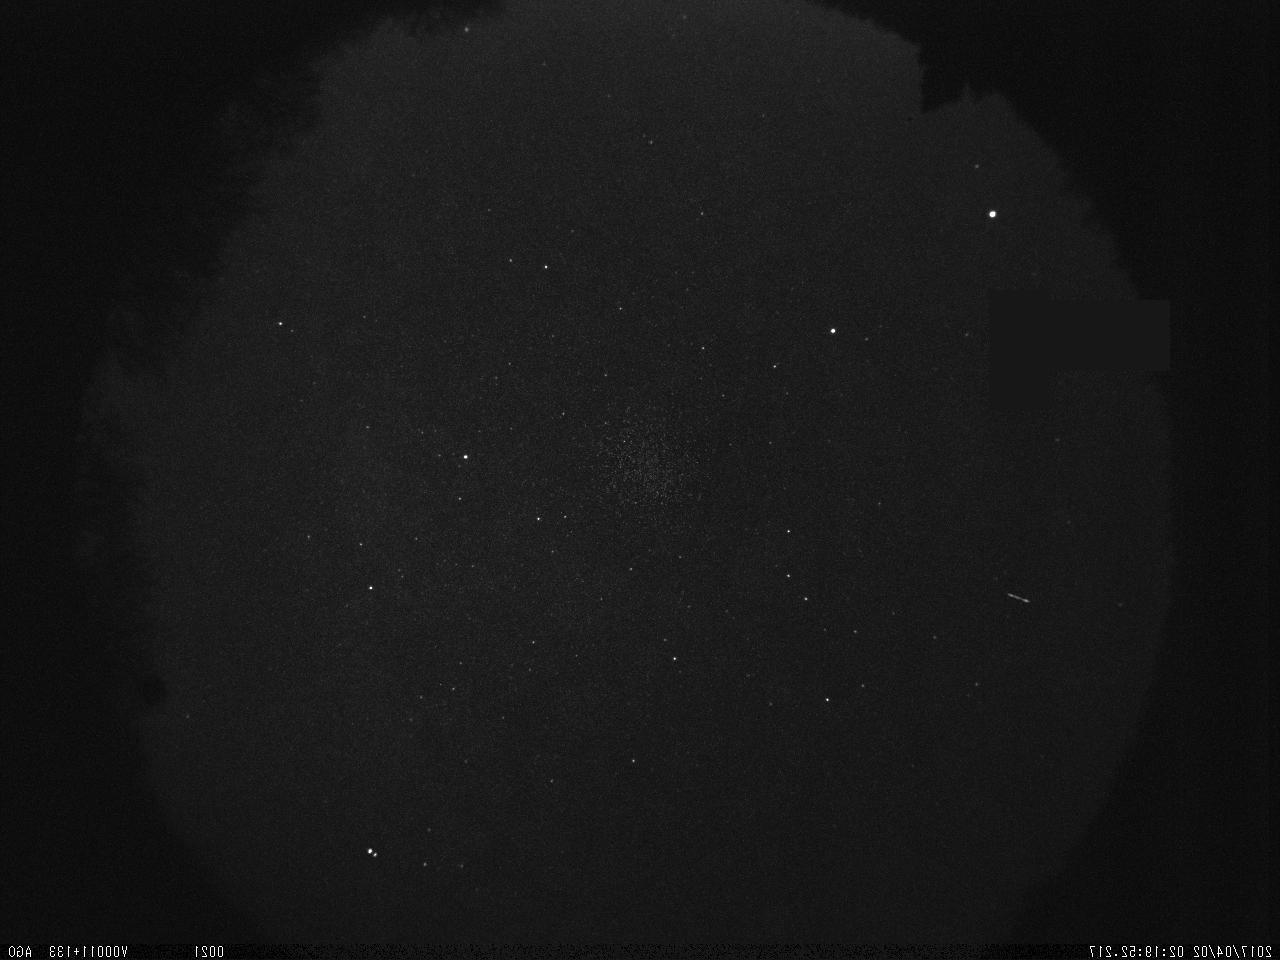meteor: (1000, 588, 1037, 611)
